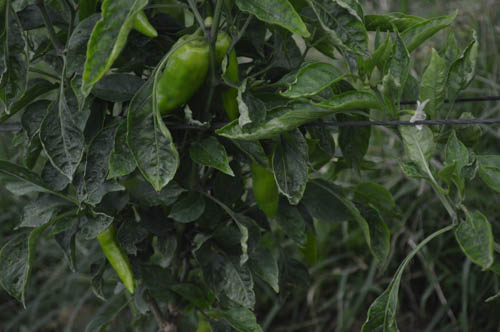ChiliPepper: (160, 39, 206, 115), (213, 40, 244, 120), (101, 225, 133, 296), (252, 152, 278, 219)
